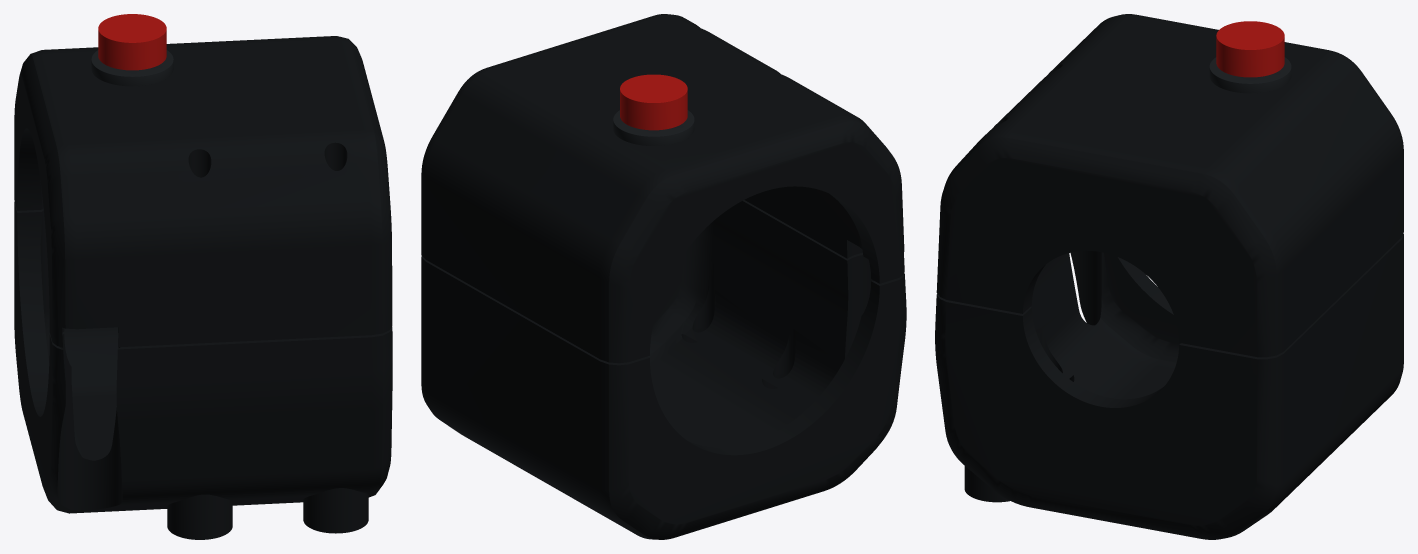
Rendered from switchgear-right-inspection.glb.
3 views of the same model, side by side, from view 1: azimuth 30°, elevation 25°; view 2: azimuth 150°, elevation 25°; view 3: azimuth 270°, elevation 25° (orthographic).
Parts seen in each view (by area): view 1: RH switch upper shell - editable, RH switch lower shell - editable, RH observed red top control - function unknown, RH estimated black actuator collar; view 2: RH switch lower shell - editable, RH switch upper shell - editable, RH observed red top control - function unknown, RH estimated black actuator collar; view 3: RH switch upper shell - editable, RH switch lower shell - editable, RH observed red top control - function unknown, RH estimated black actuator collar.
Boxes of the visible parts, x1,y1,x2,y2 form: RH switch upper shell - editable: (14, 36, 392, 347); RH switch lower shell - editable: (14, 201, 392, 539); RH observed red top control - function unknown: (98, 14, 166, 70); RH estimated black actuator collar: (91, 50, 173, 86); RH switch lower shell - editable: (421, 200, 906, 539); RH switch upper shell - editable: (421, 14, 904, 363); RH observed red top control - function unknown: (620, 74, 687, 130); RH estimated black actuator collar: (613, 110, 694, 145); RH switch upper shell - editable: (936, 14, 1403, 357); RH switch lower shell - editable: (935, 234, 1403, 539); RH observed red top control - function unknown: (1216, 21, 1284, 77); RH estimated black actuator collar: (1209, 57, 1291, 93).
Bounding box in the file's own units: 0.0592 × 0.0605 × 0.0618.
